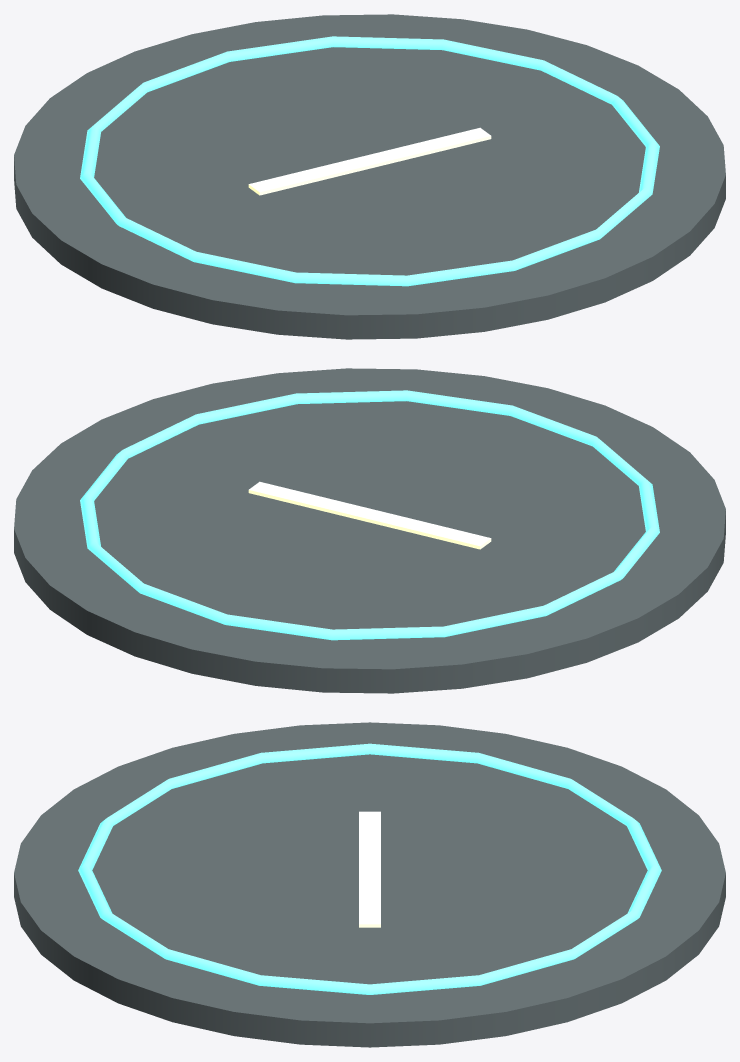
File: pad.lod2.glb
3 views of the same model, one above another, from view 1: azimuth 30°, elevation 25°; view 2: azimuth 150°, elevation 25°; view 3: azimuth 270°, elevation 25° (orthographic).
Visible parts, largest first — view 1: structure; view 2: structure; view 3: structure.
Boxes of the visible parts, x1,y1,x2,y2 form: structure: (14, 14, 725, 339); structure: (14, 368, 725, 693); structure: (14, 722, 725, 1047).
Size of the model in its own units: 8 by 0.41 by 8.
